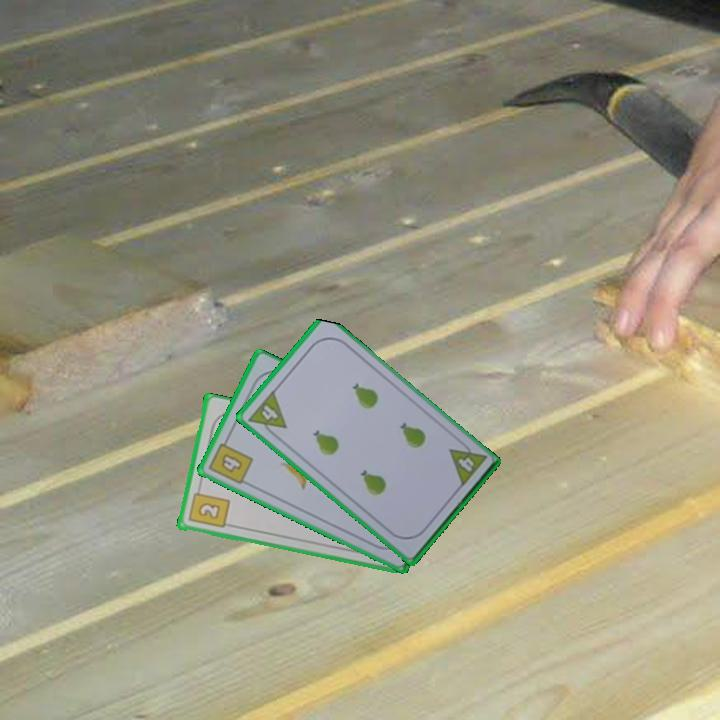2b: (185, 483, 232, 531)
4b: (205, 434, 256, 487)
4p: (244, 387, 289, 442), (446, 436, 489, 490)
